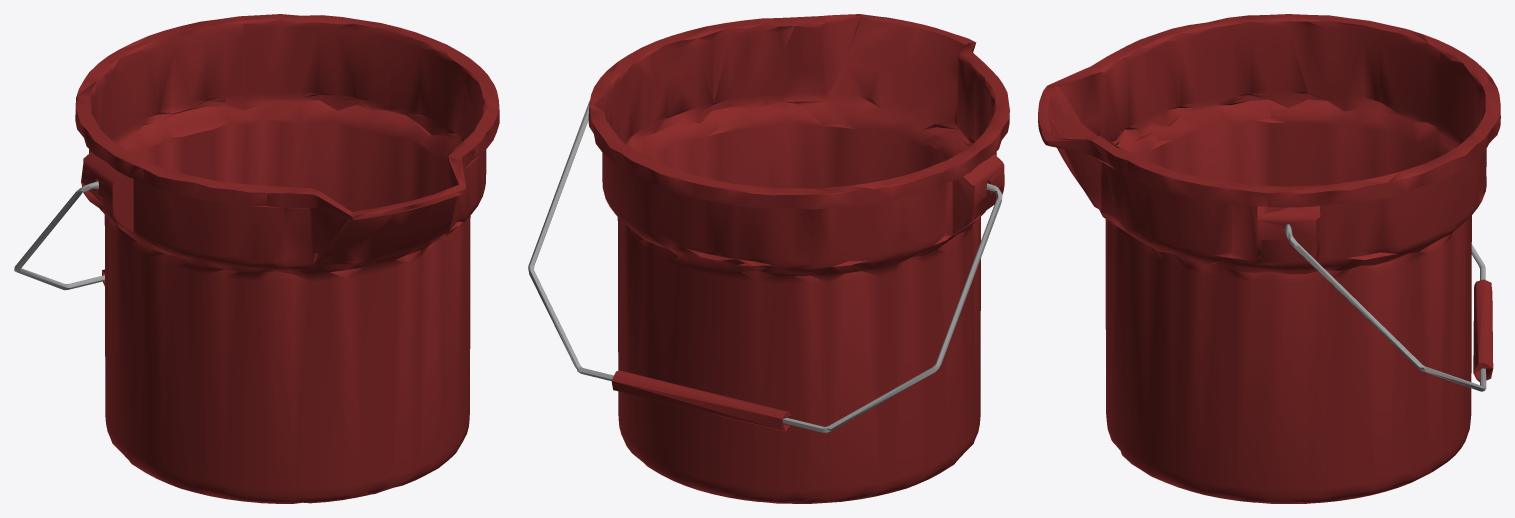
The model's file is simready-bucket-red.895b0280.glb.
The picture shows the model from 3 angles, left to right: view 1: azimuth 30°, elevation 25°; view 2: azimuth 150°, elevation 25°; view 3: azimuth 270°, elevation 25°; orthographic projection.
Visible parts, largest first — view 1: model; view 2: model; view 3: model.
Boxes of the visible parts, x1,y1,x2,y2 form: model: (14, 14, 499, 503); model: (528, 14, 1009, 503); model: (1038, 14, 1500, 503).
Size of the model in its own units: 0.3382 by 0.2588 by 0.3266.
Materials: 2 (1 with a texture image).
